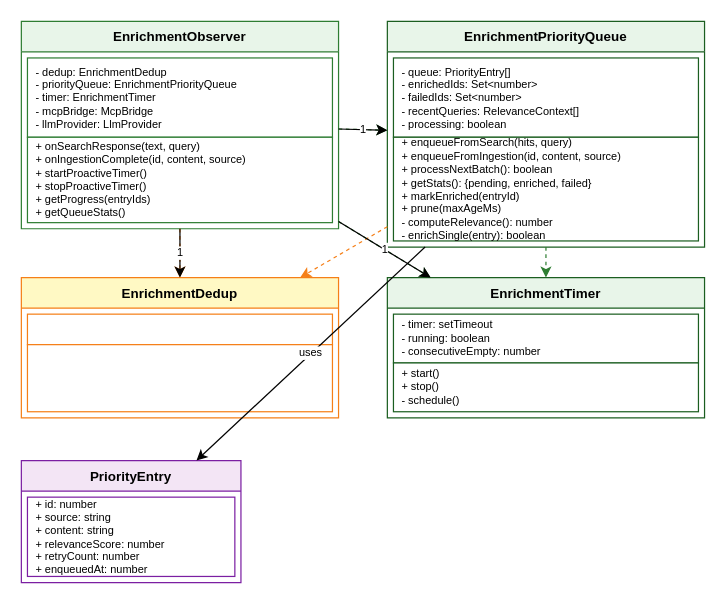
Some shapes in this 726 by 604 pixel diagram are drawn without their labels. Here are the shapes that lost their labels. From the top down, the centre of each, then its label:
pixel 179 329: - inFlight: Map<id, timestamp>
pixel 179 377: + canProcess(id): boolean + markInFlight(id) + release(id) + getInflightCount()
